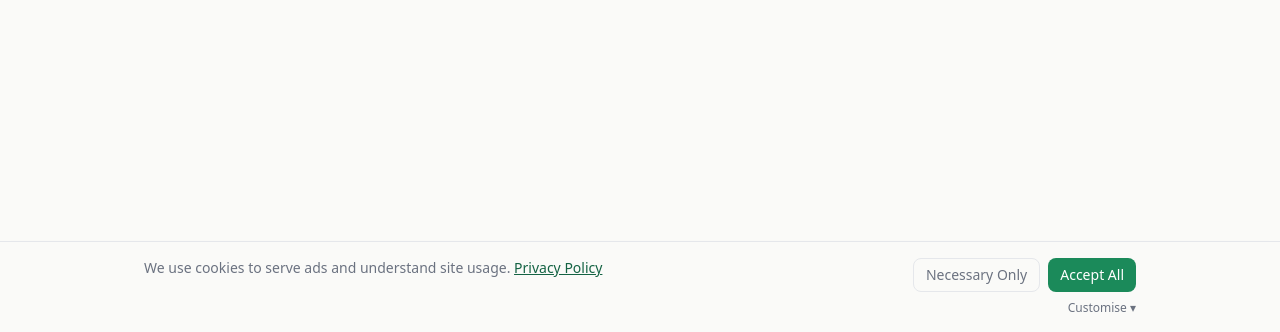
Scenario: CookieBanner Customise panel › CookieBanner_customiseClick_expandsAnalyticsAndMarketingToggles
Click the button "Customise ▾". click: (1102, 308)
box: [1068,300,1136,316]
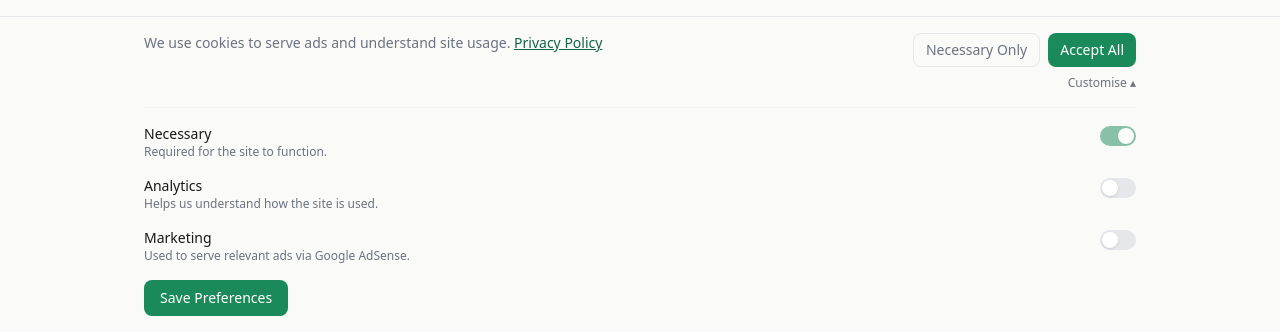
Expected: the text "Analytics" is shown, [144,176,202,195]
Expected: the text "Marketing" is shown, [144,228,212,247]
